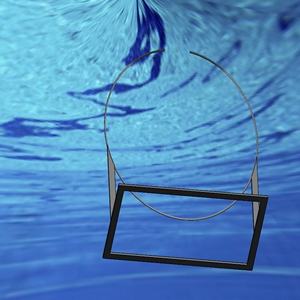circle: (102, 47, 270, 272)
